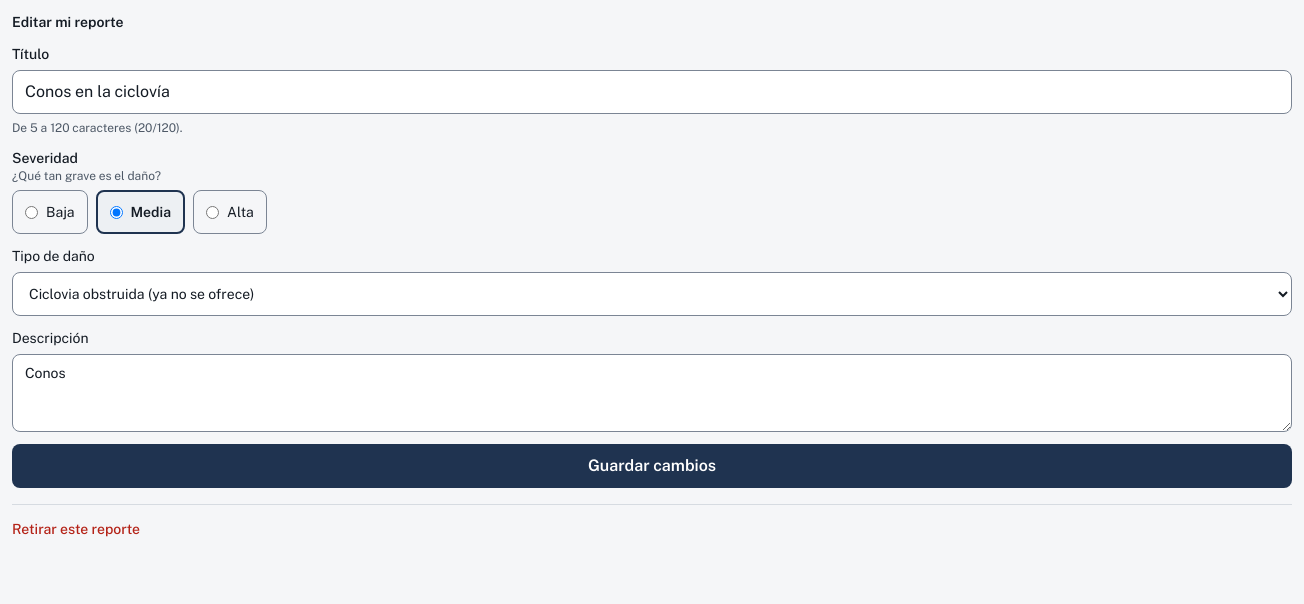
Test: EditarReporte (US-08 con categoría desactivada, US-29) › la moderación (NC-10c) › un 409 sigue siendo un error general
Click the button "Guardar cambios": (652, 466) [12,444,1292,488]
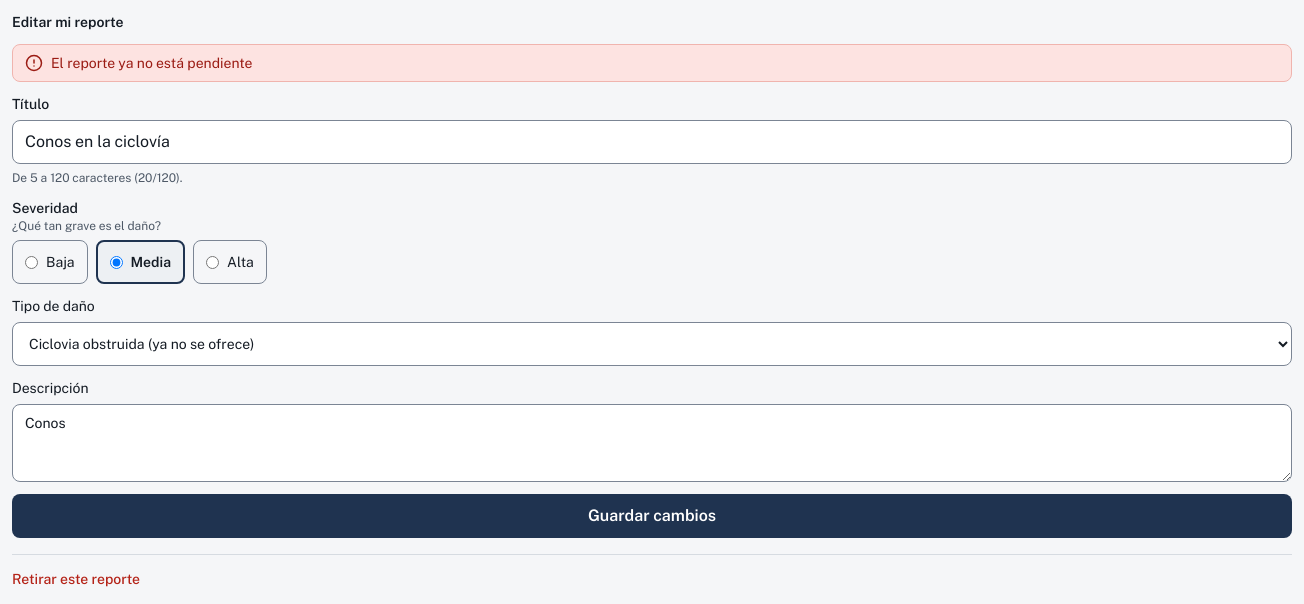
Expected: the text "El reporte ya no está pendiente" is shown, [51,55,252,71]
